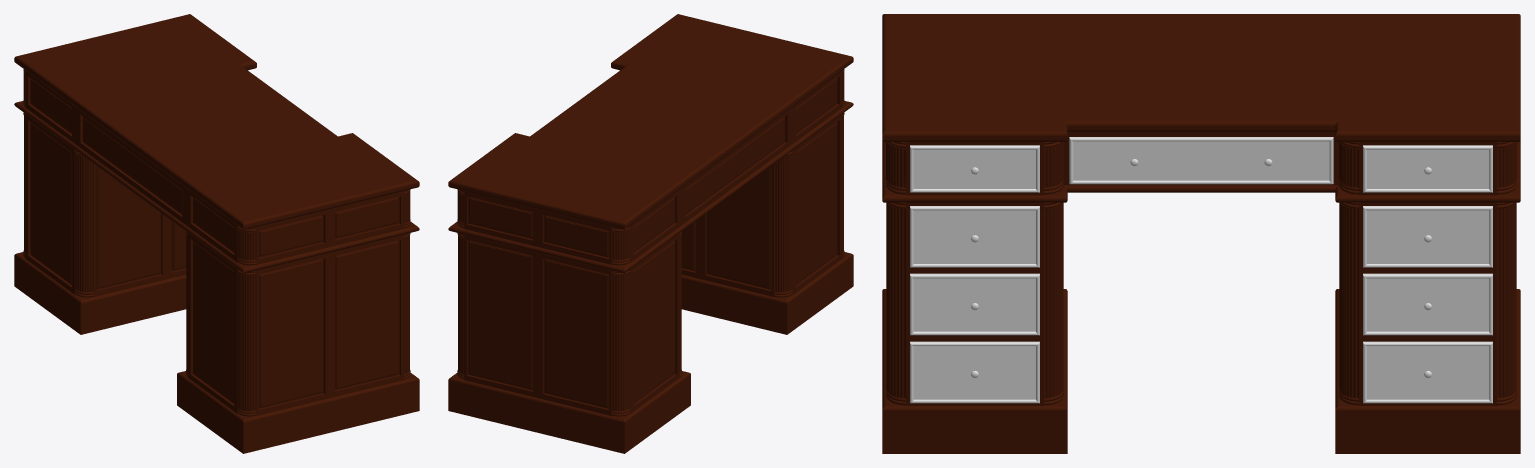
Rendered from LivingRoom Desk.fbx.
3 renders of one model, left to right at view 1: azimuth 30°, elevation 25°; view 2: azimuth 150°, elevation 25°; view 3: azimuth 270°, elevation 25°, orthographic. The views are drawn at different scales.
Parts seen in each view (by area): view 1: Main; view 2: Main; view 3: Main, Drawer.Middle, DrawerRight.3, DrawerRight.4, DrawerLeft.3, DrawerLeft.4, DrawerRight.2, DrawerLeft.2, DrawerRight.1, DrawerLeft.1.
Part boxes in pixels (<box>): Main: <box>14,14,419,453</box>; Main: <box>448,14,853,453</box>; Main: <box>882,14,1520,453</box>; Drawer.Middle: <box>1069,137,1333,184</box>; DrawerRight.3: <box>1363,273,1492,335</box>; DrawerRight.4: <box>1363,341,1492,403</box>; DrawerLeft.3: <box>910,273,1039,335</box>; DrawerLeft.4: <box>910,341,1039,403</box>; DrawerRight.2: <box>1363,206,1492,267</box>; DrawerLeft.2: <box>910,206,1039,267</box>; DrawerRight.1: <box>1363,145,1492,192</box>; DrawerLeft.1: <box>910,145,1039,192</box>.
Bounding box in the file's own units: 73 × 90 × 162.
